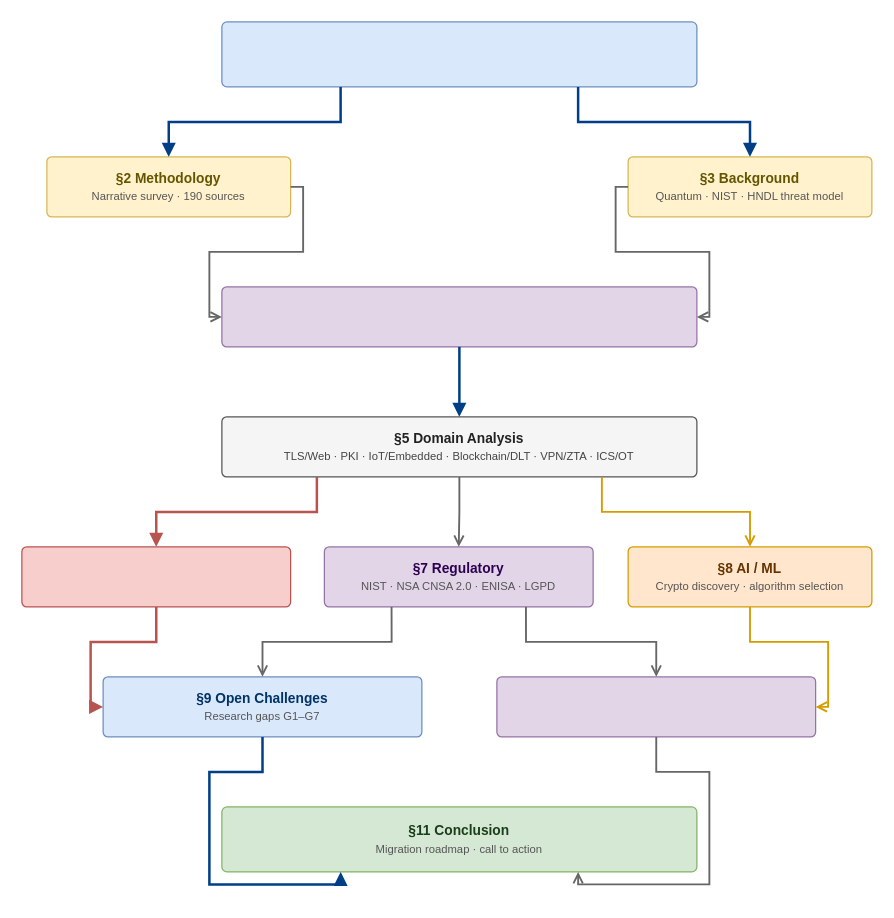
This 894x918 diagram has some shape labels left out. Here are the shapes that lost their labels. From the top down, the centre of each, then its label:
[459,54]: §1 Introduction Quantum threat · scope · contributions
[459,316]: §4 Taxonomy 3-level hierarchy · 6 domains · migration strategies
[156,576]: §6 MRC Framework T1–T4 classification · weight sensitivity
[656,706]: §10 Future Research Research agenda 2025–2033
